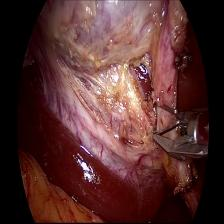Clipper: (146, 102, 212, 173)
